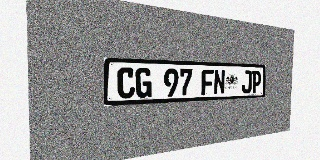7: (179, 69, 192, 96)
9: (164, 68, 179, 97)
C: (117, 67, 135, 99)
F: (201, 69, 214, 95)
G: (135, 68, 152, 98)
J: (242, 70, 252, 93)
N: (213, 70, 225, 95)
P: (251, 71, 261, 93)
